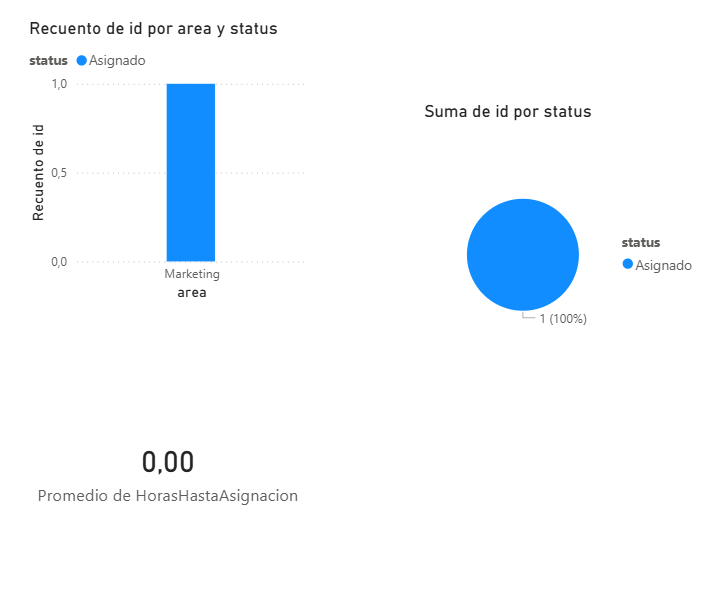

The dashboard page shown, as its layout file describes it:
{"tool":"powerbi","page":{"name":"Página 1","canvas":[1280,720],"ordinal":0},"visuals":[{"type":"columnChart","fields":{"Category":["requests.area"],"Y":["CountNonNull(requests.id)"],"Series":["requests.status"]},"box":[40.9,45.7,280.1,280.1],"z":0},{"type":"card","fields":{"Values":["Avg(requests.HorasHastaAsignacion)"]},"box":[40.9,345.3,280.1,280.1],"z":1000},{"type":"pieChart","fields":{"Category":["requests.status"],"Y":["Sum(requests.id)"]},"box":[425,126.4,280.1,280.1],"z":2000}]}

Visuals, with their boxes on the page's 1280x720 design canvas (x1, y1, x2, y2). These are canvas units, not pixel positions in the 727x591 screenshot, which may show the page scaled, cropped or inside an application window:
columnChart - requests.area x CountNonNull(requests.id): (41,46,321,326)
card - Avg(requests.HorasHastaAsignacion): (41,345,321,625)
pieChart - requests.status x Sum(requests.id): (425,126,705,406)
